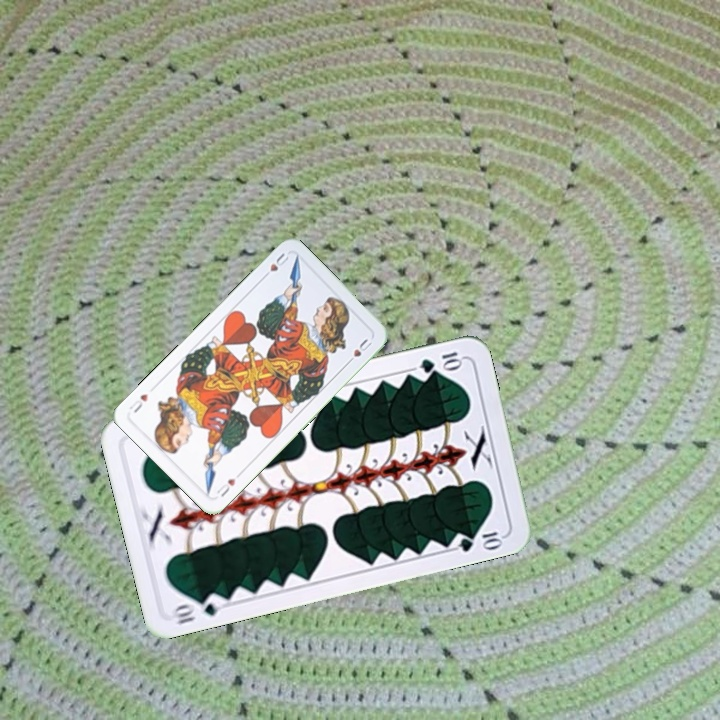G10: (169, 590, 227, 627), (416, 347, 465, 376)
HU: (258, 249, 292, 281), (212, 474, 238, 499)
